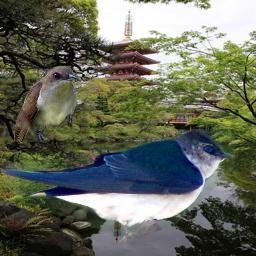Cuckoo: (14, 66, 80, 142)
Swallow: (0, 129, 235, 245)
